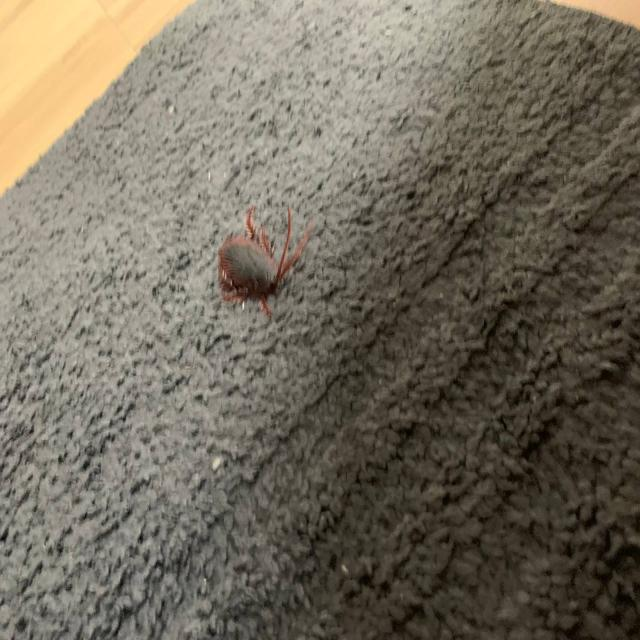Cockroach: (202, 200, 310, 321)
